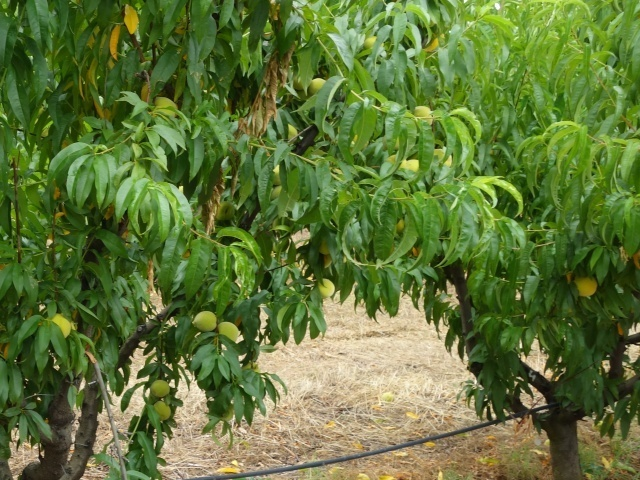peach: (190, 304, 219, 336), (48, 311, 77, 342), (572, 271, 600, 302), (214, 319, 241, 348), (150, 398, 175, 426), (312, 273, 335, 302), (148, 376, 172, 403), (306, 75, 330, 98)
